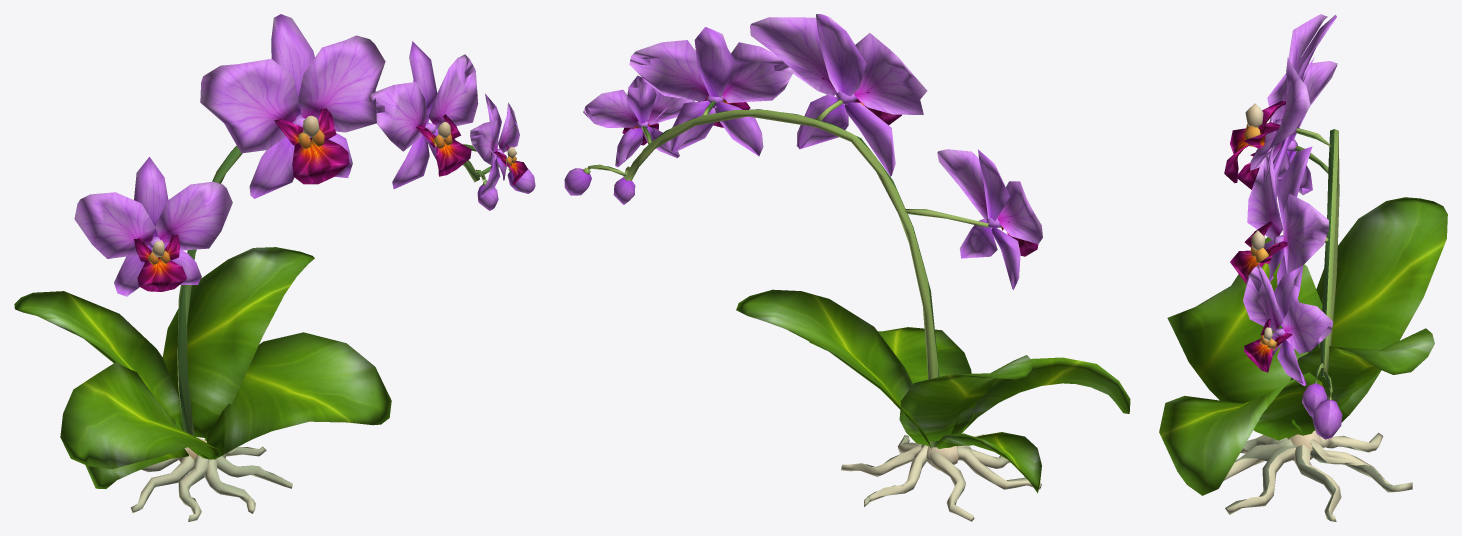
File: NP_Orchid_Ready_LOD1.fbx
The picture shows the model from 3 angles, left to right: view 1: azimuth 30°, elevation 25°; view 2: azimuth 150°, elevation 25°; view 3: azimuth 270°, elevation 25°; orthographic projection. The views are drawn at different scales.
Visible parts, largest first — view 1: NP_Orchid_Ready; view 2: NP_Orchid_Ready; view 3: NP_Orchid_Ready.
Part boxes in pixels (x1=…): NP_Orchid_Ready: x1=14, y1=14, x2=535, y2=521; NP_Orchid_Ready: x1=564, y1=14, x2=1130, y2=521; NP_Orchid_Ready: x1=1159, y1=14, x2=1447, y2=521.
Size of the model in its own units: 131 by 107 by 54.22.
1 material, 1 textured.
